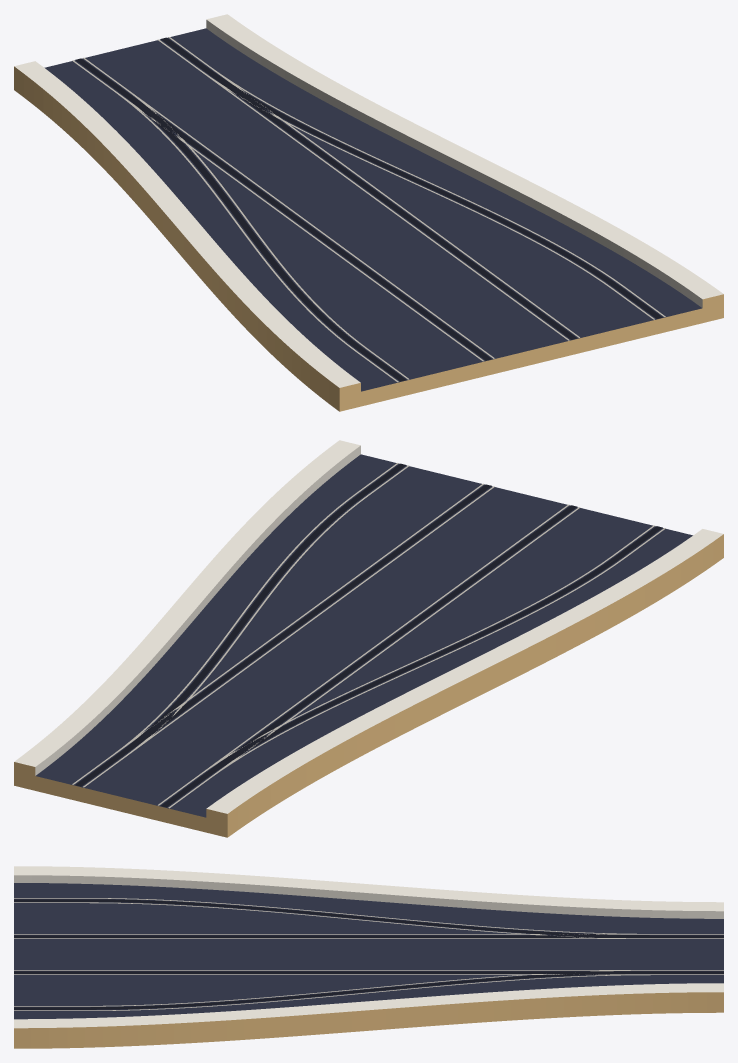
The model's file is Track_Split_2to4.fbx.
The picture shows the model from 3 angles, top to bottom: view 1: azimuth 30°, elevation 25°; view 2: azimuth 150°, elevation 25°; view 3: azimuth 270°, elevation 25°; orthographic projection. The views are drawn at different scales.
Parts seen in each view (by area): view 1: Track_Split_2to4; view 2: Track_Split_2to4; view 3: Track_Split_2to4.
Part boxes in pixels (box(x1,y1,x2,y2)): Track_Split_2to4: box(14, 14, 723, 411); Track_Split_2to4: box(14, 440, 723, 837); Track_Split_2to4: box(14, 866, 723, 1048).
Bounding box in the file's own units: 5.4 × 0.32 × 10.
